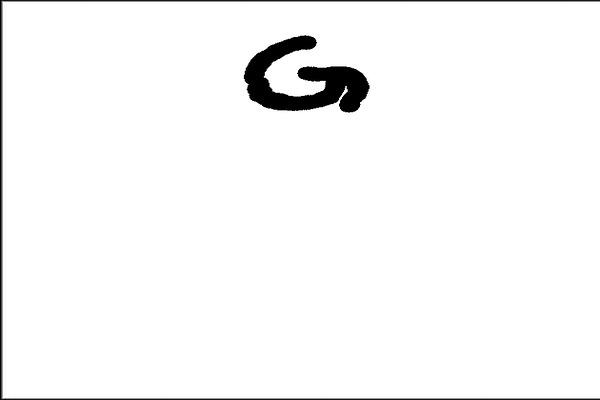G: (239, 31, 373, 118)
